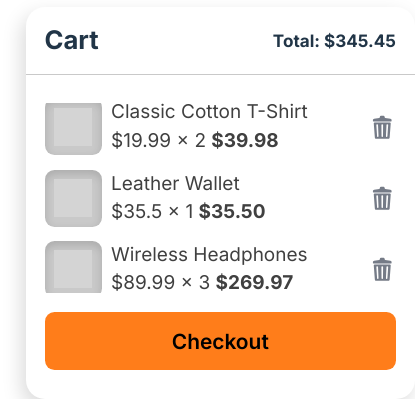
Test: Page header test. › Remove second item.
(page scrolled)
Check: the text "Classic Cotton T-Shirt" is shown, box [111, 104, 308, 124]
Check: the text "Leather Wallet" is shown, box [111, 172, 240, 195]
What coordinates should you click on to do the following:
click the button named "Remove cart item." in the row of "Leather Wallet"
I would click on:
 (382, 198)
Its box is [368, 170, 396, 227].
(page scrolled)
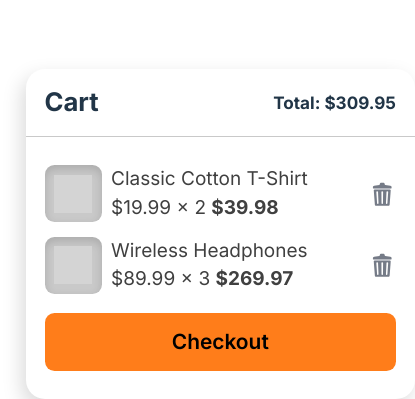
Check: the text "Leather Wallet" is gone
Check: the number of list items is 2, box [44, 166, 396, 222]; [44, 237, 396, 294]
